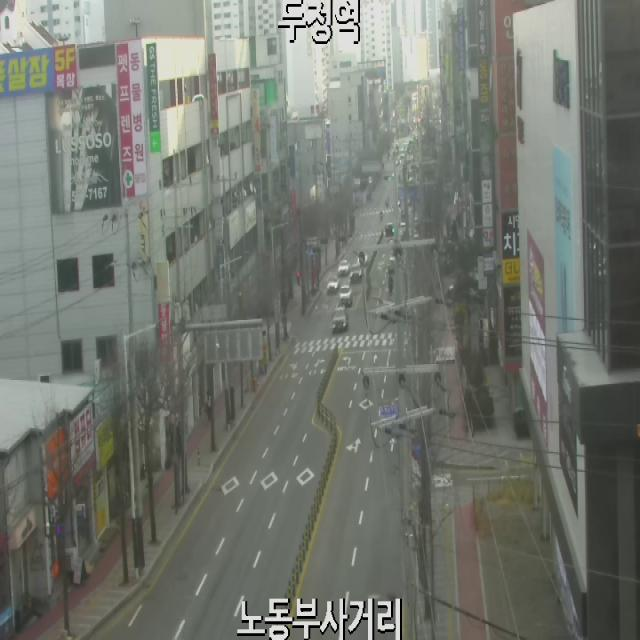Car: (332, 304, 348, 333), (340, 284, 352, 308), (350, 264, 362, 282), (328, 277, 340, 294), (338, 260, 350, 276), (357, 250, 368, 264), (385, 222, 394, 236)
